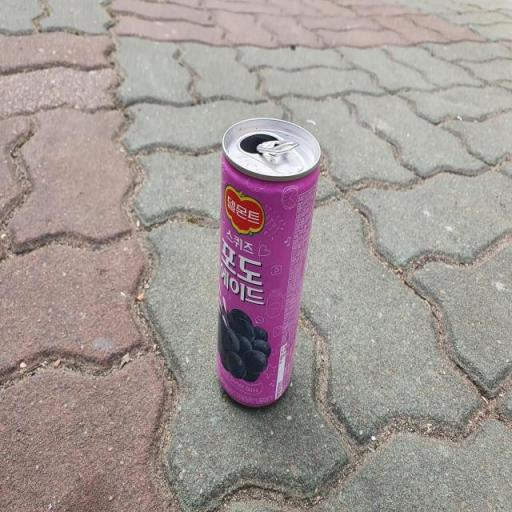metal: (210, 102, 326, 436)
